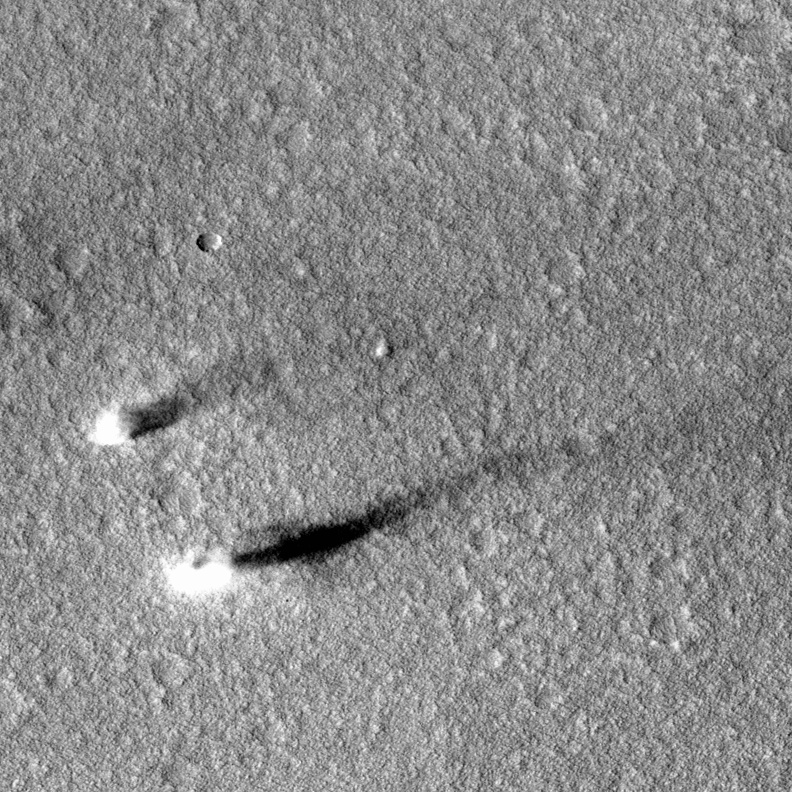dust_devil: (158, 446, 521, 600), (83, 349, 276, 452)
